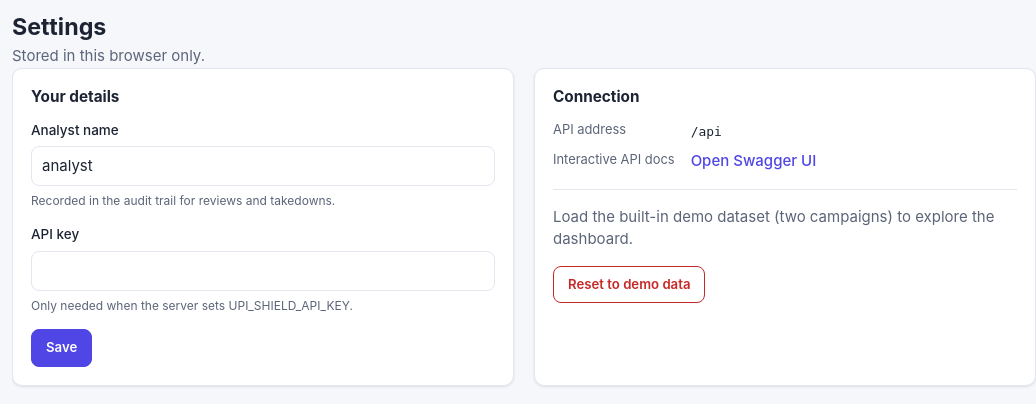
Settings page › stores the analyst name and API key locally
Replace the text in the field labelled "Analyst name" with "ravi": {"x": 263, "y": 166} [31,146,495,186]
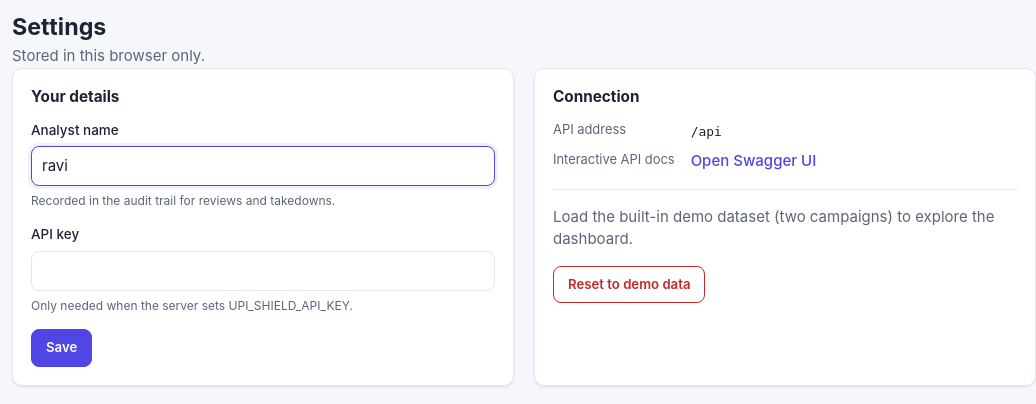
In the password field labelled "API key": {"x": 263, "y": 271} [31,251,495,291], type "key-1"
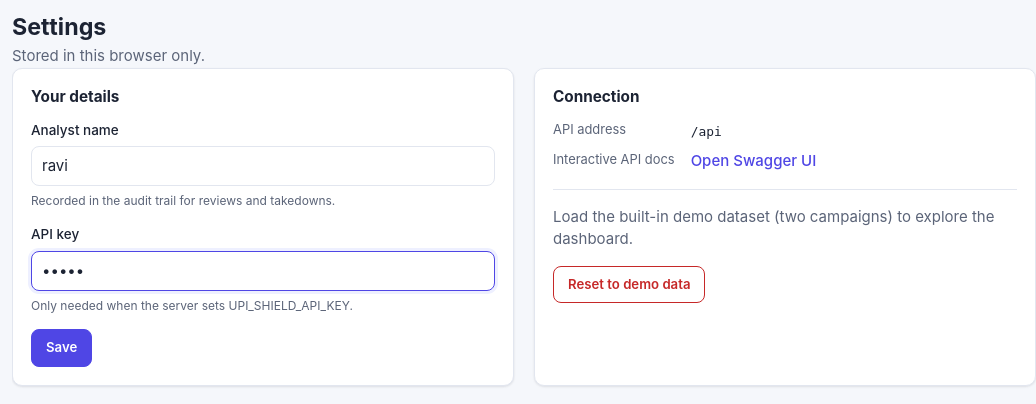
Click the button "Save": {"x": 62, "y": 348} [31,329,92,367]
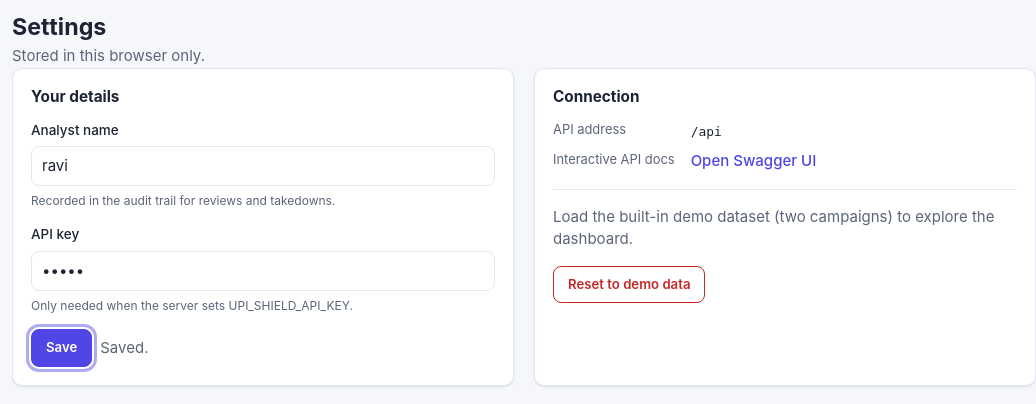
Check: the text "Saved." is shown, box [100,337,148,359]
